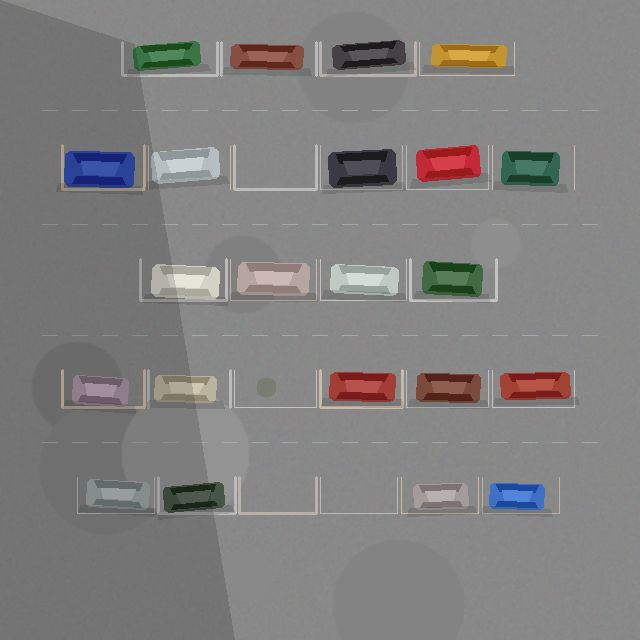space-empty: (234, 145, 316, 189), (234, 370, 316, 407), (239, 477, 316, 513), (320, 477, 397, 513)
space-occupied: (62, 145, 144, 189), (148, 145, 230, 189), (320, 145, 402, 189), (406, 145, 488, 189), (492, 145, 574, 189), (140, 259, 226, 300), (230, 259, 316, 300), (320, 259, 406, 300), (410, 259, 496, 300), (122, 42, 217, 75), (221, 42, 316, 75), (320, 42, 415, 75), (419, 42, 514, 75), (62, 370, 144, 407), (148, 370, 230, 407), (320, 370, 402, 407), (406, 370, 488, 407), (492, 370, 574, 407), (77, 477, 154, 513), (158, 477, 235, 513), (401, 477, 478, 513), (482, 477, 559, 513)
